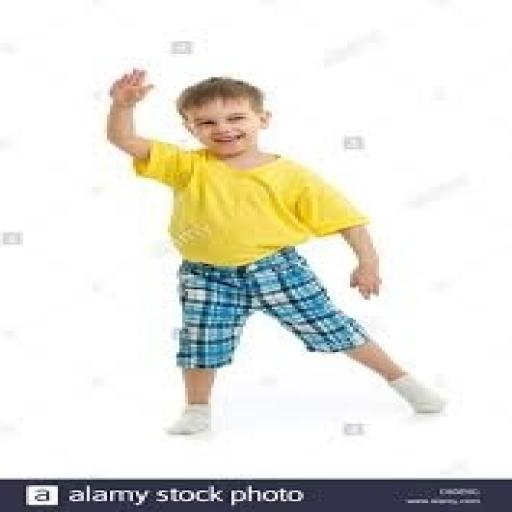dancing: (101, 66, 454, 438)
